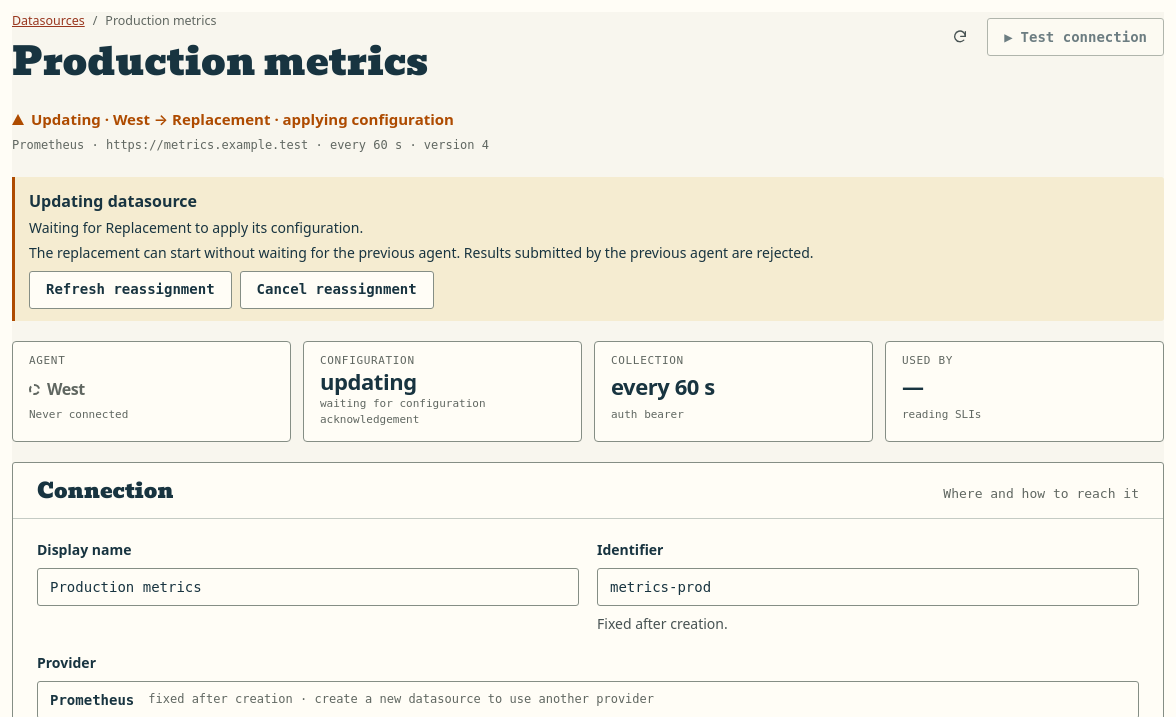
Test: datasource page › keeps a stale cancellation blocked and tells the user to refresh
Click the button "Cancel reassignment". click: (337, 290)
box: x1=240 y1=271 x2=434 y2=309
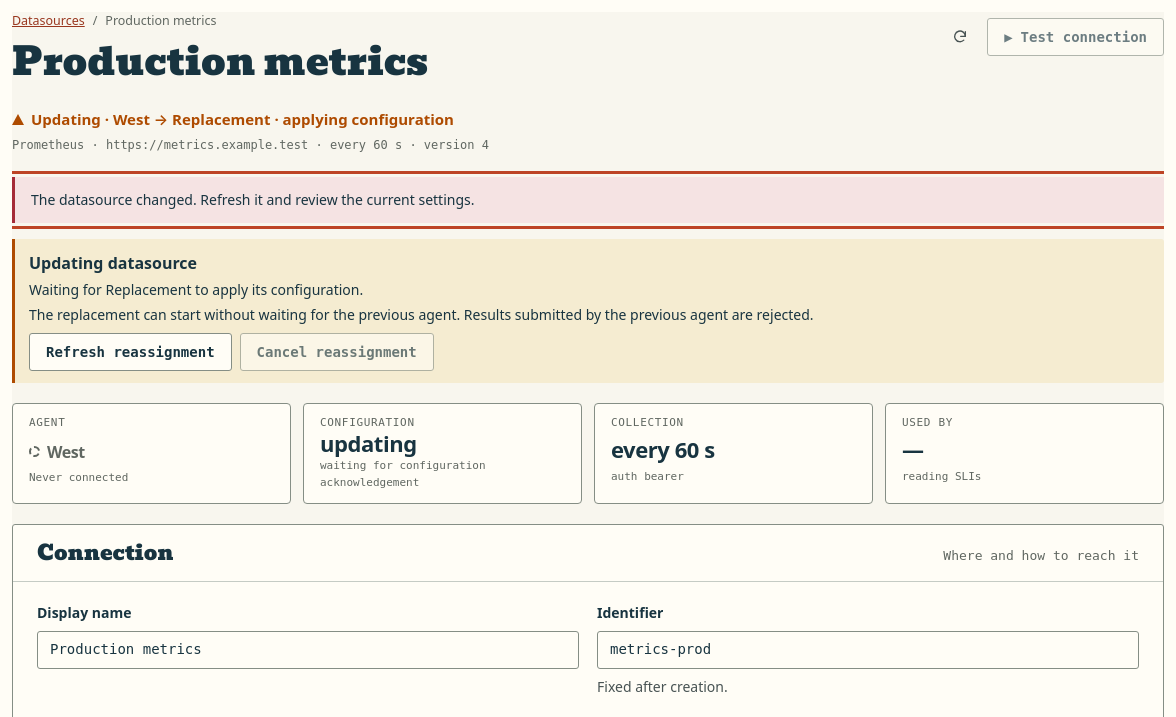
Check: the heading "Updating datasource" is shown, box x1=29 y1=252 x2=197 y2=274
Check: the message shows "Refresh it", box x1=31 y1=190 x2=474 y2=209
Check: the button "Cancel reassignment" is disabled, box x1=240 y1=333 x2=434 y2=371
Click the button "Refresh reassignment". click: (130, 352)
box: x1=29 y1=333 x2=232 y2=371
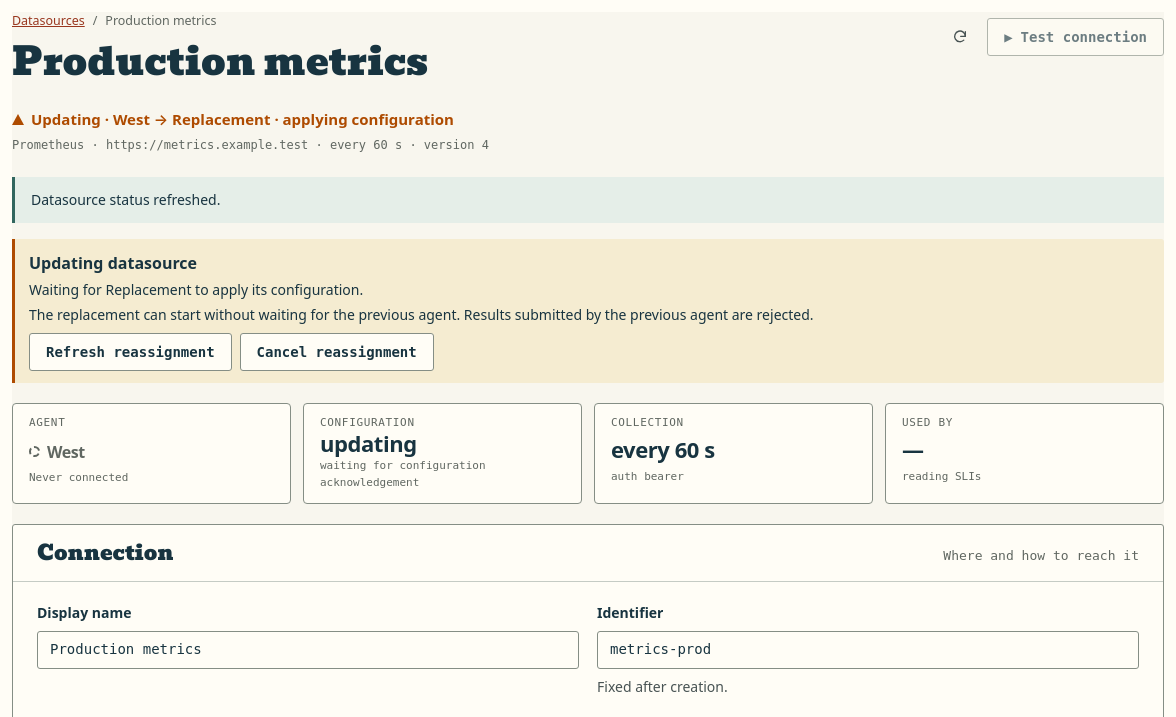
Check: the button "Cancel reassignment" is enabled, box x1=240 y1=333 x2=434 y2=371
